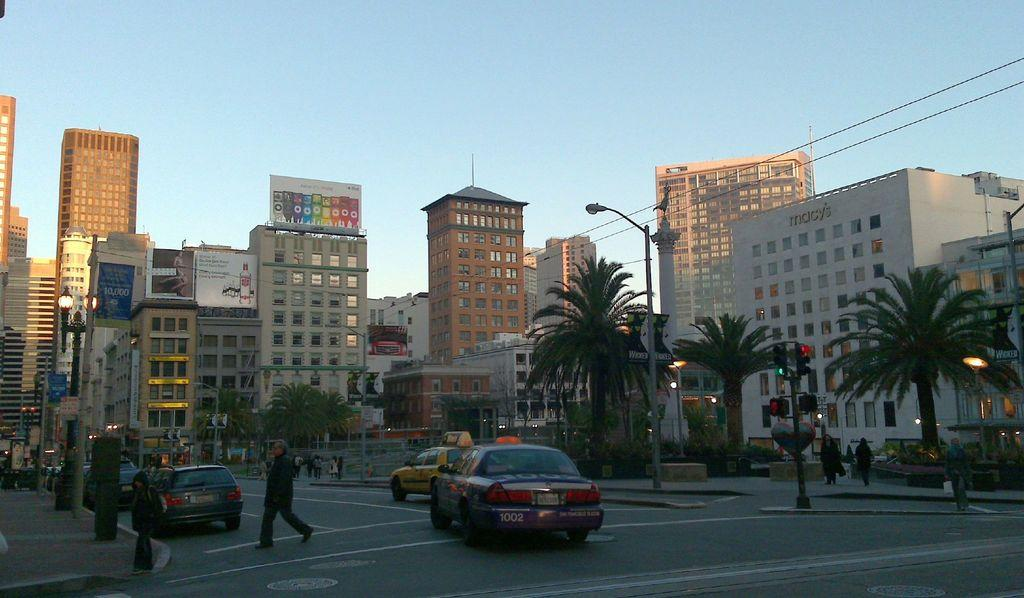Car: (429, 444, 603, 546), (129, 466, 247, 536), (392, 433, 481, 505), (90, 472, 142, 515)
